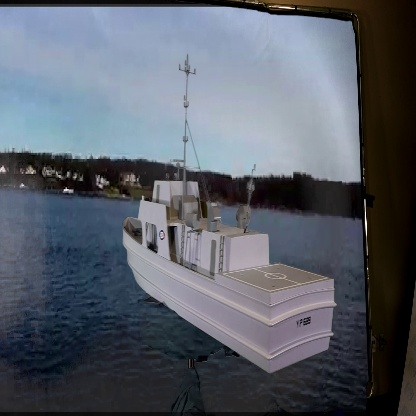YP689: (118, 51, 343, 375)
